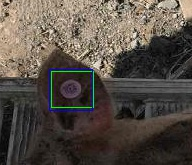text: (51, 71, 93, 107)
